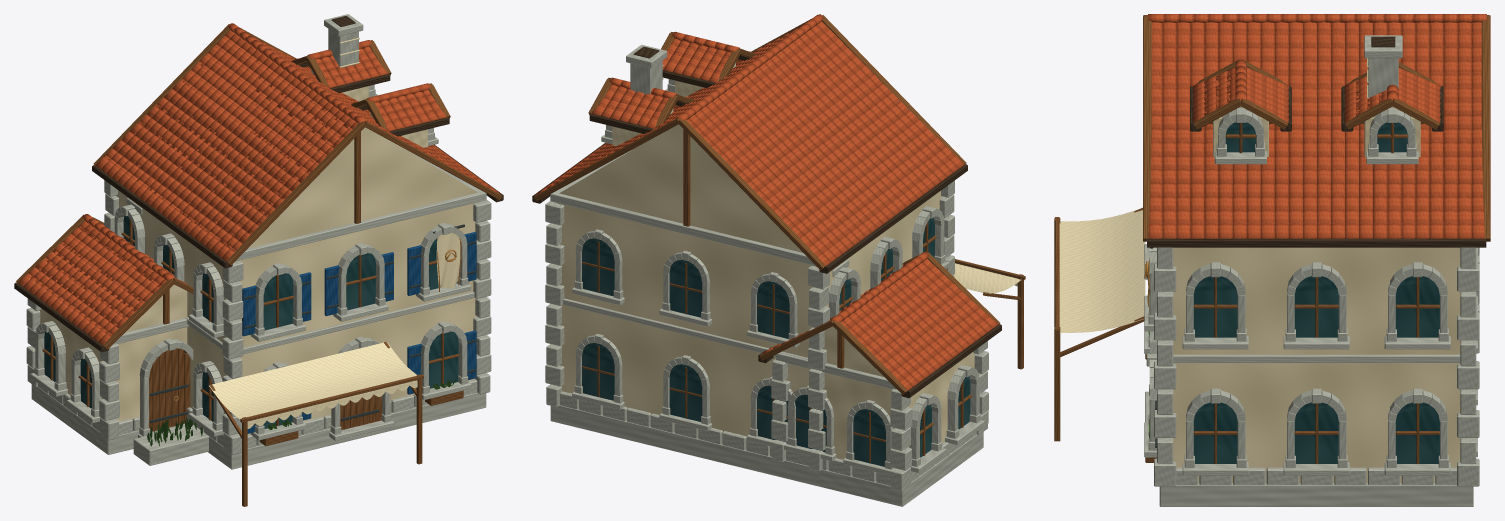
Rendered from healing_house.glb.
3 views of the same model, side by side, from view 1: azimuth 30°, elevation 25°; view 2: azimuth 150°, elevation 25°; view 3: azimuth 270°, elevation 25° (orthographic). The views are drawn at different scales.
Visible parts, largest first — view 1: healing_house_Structure.001, healing_house_Roof.001, healing_house_Joinery.001, healing_house_Detail.001, healing_house_Cloth.001, healing_house_Glazing.001, healing_house_Metalwork.001, healing_house_Foliage.001; view 2: healing_house_Structure.001, healing_house_Roof.001, healing_house_Detail.001, healing_house_Joinery.001, healing_house_Glazing.001, healing_house_Cloth.001; view 3: healing_house_Roof.001, healing_house_Structure.001, healing_house_Detail.001, healing_house_Joinery.001, healing_house_Glazing.001, healing_house_Cloth.001.
Boxes of the visible parts, left/top/right/bottom form: healing_house_Structure.001: left=26, top=14, right=491, bottom=469; healing_house_Roof.001: left=17, top=23, right=499, bottom=344; healing_house_Joinery.001: left=14, top=24, right=503, bottom=506; healing_house_Detail.001: left=30, top=84, right=471, bottom=440; healing_house_Cloth.001: left=209, top=228, right=460, bottom=428; healing_house_Glazing.001: left=44, top=215, right=458, bottom=428; healing_house_Metalwork.001: left=150, top=224, right=476, bottom=425; healing_house_Foliage.001: left=147, top=380, right=455, bottom=446; healing_house_Structure.001: left=545, top=44, right=988, bottom=506; healing_house_Roof.001: left=536, top=14, right=998, bottom=390; healing_house_Detail.001: left=572, top=79, right=984, bottom=475; healing_house_Joinery.001: left=532, top=14, right=1025, bottom=462; healing_house_Glazing.001: left=582, top=218, right=970, bottom=466; healing_house_Cloth.001: left=954, top=263, right=1021, bottom=293; healing_house_Roof.001: left=1148, top=14, right=1486, bottom=238; healing_house_Structure.001: left=1154, top=35, right=1479, bottom=506; healing_house_Detail.001: left=1144, top=108, right=1477, bottom=475; healing_house_Joinery.001: left=1054, top=15, right=1490, bottom=463; healing_house_Glazing.001: left=1193, top=122, right=1439, bottom=463; healing_house_Cloth.001: left=1059, top=209, right=1149, bottom=332.
Size of the model in its own units: 10.79 by 9.73 by 8.92.
Materials: 4 (4 with a texture image).
